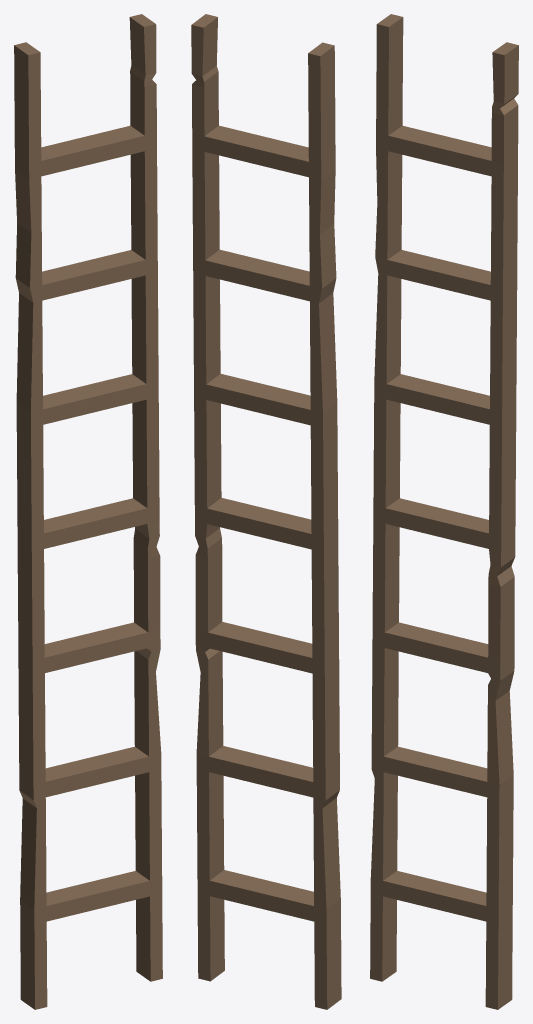
File: ladder.glb
The picture shows the model from 3 angles, left to right: view 1: azimuth 30°, elevation 25°; view 2: azimuth 150°, elevation 25°; view 3: azimuth 330°, elevation 25°; orthographic projection.
Parts seen in each view (by area): view 1: prop_ladder; view 2: prop_ladder; view 3: prop_ladder.
Boxes of the visible parts, x1,y1,x2,y2 form: prop_ladder: [14, 14, 162, 1009]; prop_ladder: [191, 14, 341, 1009]; prop_ladder: [370, 14, 518, 1009].
Bounding box in the file's own units: 0.3661 × 2.6 × 0.104.
